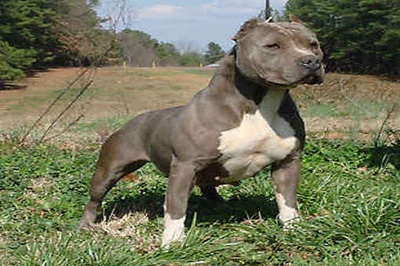am_pit_bull_terrier: (79, 13, 325, 251)
